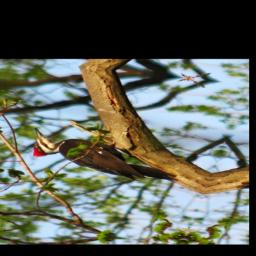Woodpecker: (14, 124, 195, 186)
